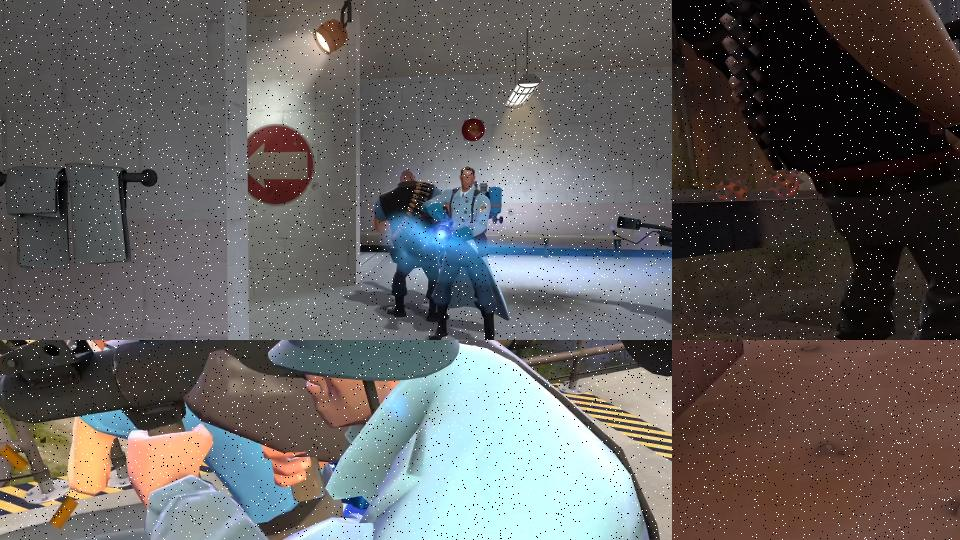Enemy: (0, 340, 672, 540), (672, 0, 960, 340), (0, 340, 344, 540), (423, 158, 516, 340), (372, 167, 442, 321), (611, 182, 672, 338)
